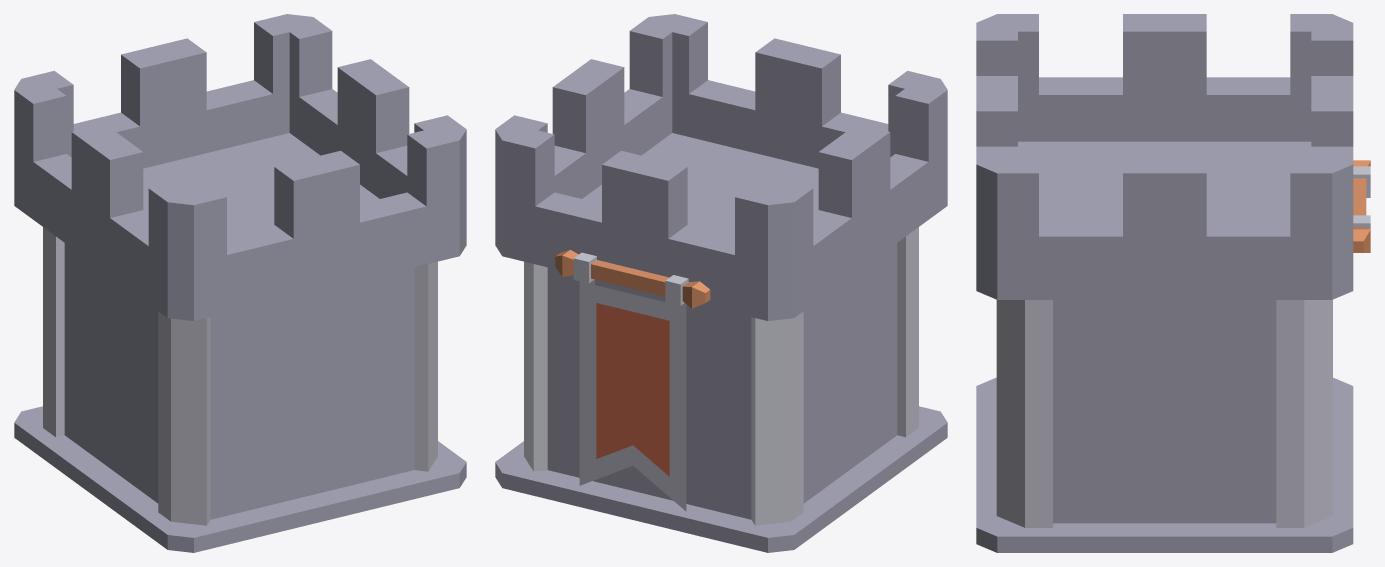
The model's file is HighTower.fbx.
3 renders of one model, left to right at view 1: azimuth 30°, elevation 25°; view 2: azimuth 150°, elevation 25°; view 3: azimuth 270°, elevation 25°, orthographic. The views are drawn at different scales.
Visible parts, largest first — view 1: battlement_corner_39, wall_straight_54, battlement_corner_40, wall_straight_10, wall_border_26, floor_square_38, floor_square_2, wall_border_25; view 2: battlement_corner_40, battlement_corner_39, detail_bannerPoints%_41, wall_straight_33, wall_straight_10, wall_border_26, floor_square_38, floor_square_2, wall_border_25; view 3: wall_straight_13, battlement_corner_39, battlement_corner_40, wall_border_25, floor_square_2, floor_square_38, detail_bannerPoints%_41.
Boxes of the visible parts, x1,y1,x2,y2 form: battlement_corner_39: (167,14,466,320); wall_straight_54: (210,267,414,519); battlement_corner_40: (14,14,311,315); wall_straight_10: (64,243,158,503); wall_border_26: (43,227,210,525); floor_square_38: (14,406,466,552); floor_square_2: (14,133,466,320); wall_border_25: (414,261,437,471); battlement_corner_40: (496,79,947,320); battlement_corner_39: (495,14,947,254); detail_bannerPoints%_41: (555,250,710,511); wall_straight_33: (547,267,751,519); wall_straight_10: (803,243,897,503); wall_border_26: (751,227,918,525); floor_square_38: (495,406,947,552); floor_square_2: (495,133,947,320); wall_border_25: (524,261,547,471); wall_straight_13: (1053,300,1276,523); battlement_corner_39: (976,14,1353,299); battlement_corner_40: (978,14,1353,171); wall_border_25: (996,299,1332,527); floor_square_2: (976,141,1353,299); floor_square_38: (976,377,1353,552); detail_bannerPoints%_41: (1353,160,1370,252).
Bounding box in the file's own units: 13.5 × 15 × 14.13.
